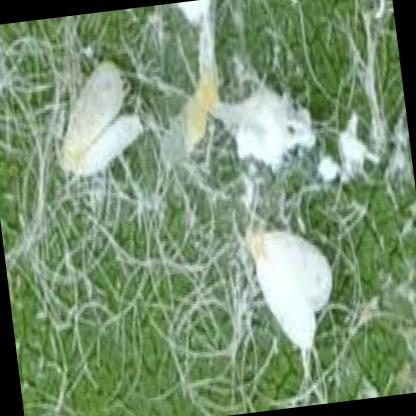whitefly: (248, 232, 334, 348), (60, 62, 142, 172)
